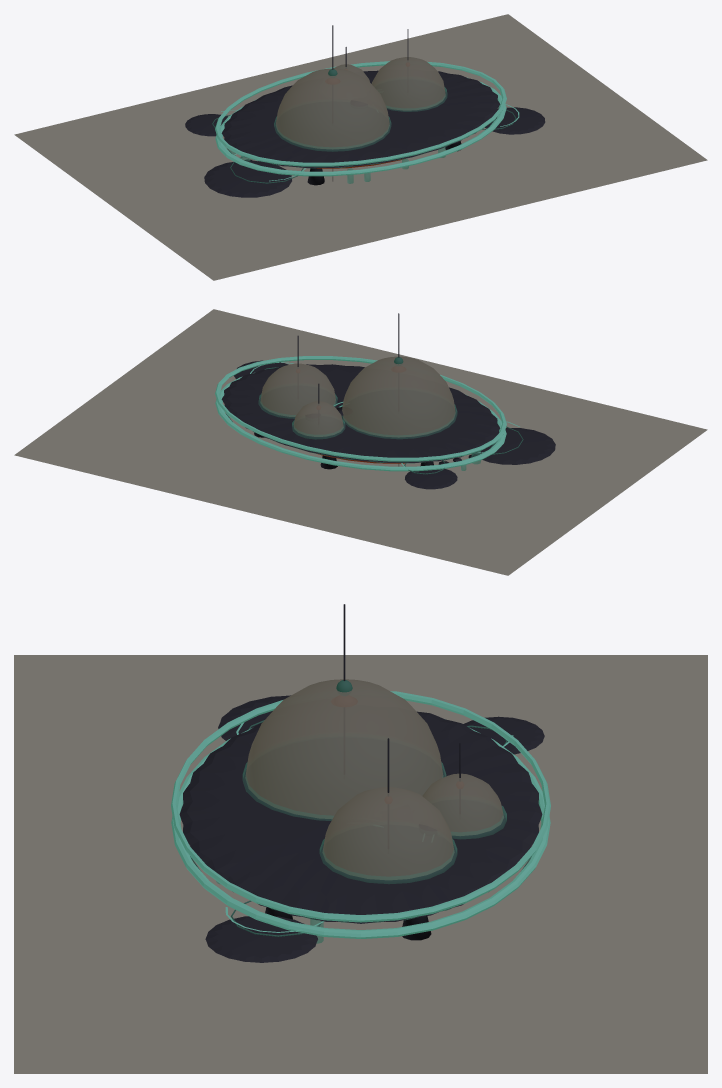
File: yoga-ext-draft-s10.glb
The picture shows the model from 3 angles, top to bottom: view 1: azimuth 30°, elevation 25°; view 2: azimuth 150°, elevation 25°; view 3: azimuth 270°, elevation 25°; orthographic projection. The views are drawn at different scales.
Visible parts, largest first — view 1: reflecting_lake, main_platform, dome_large, dome_medium, platform_rim_top, garden_platform_01, platform_rim, garden_platform_02, garden_platform_03, dome_collar_large; view 2: reflecting_lake, main_platform, dome_large, dome_medium, platform_rim_top, platform_rim, garden_platform_01, dome_small, garden_platform_03, dome_collar_large; view 3: reflecting_lake, main_platform, dome_large, dome_medium, platform_rim_top, platform_rim, garden_platform_02, dome_small, garden_platform_03, dome_collar_medium, garden_platform_01, dome_collar_large.
Boxes of the visible parts, <box> form: reflecting_lake: <box>14,14,707,280</box>; main_platform: <box>221,70,500,167</box>; dome_large: <box>276,68,389,149</box>; dome_medium: <box>371,57,445,110</box>; platform_rim_top: <box>215,61,506,166</box>; garden_platform_01: <box>204,160,291,197</box>; platform_rim: <box>215,77,506,176</box>; garden_platform_02: <box>485,107,545,134</box>; garden_platform_03: <box>185,114,227,136</box>; dome_collar_large: <box>274,116,391,151</box>; reflecting_lake: <box>14,309,707,575</box>; main_platform: <box>221,364,500,462</box>; dome_large: <box>342,356,455,437</box>; dome_medium: <box>260,363,335,416</box>; platform_rim_top: <box>215,356,506,461</box>; platform_rim: <box>215,372,506,471</box>; garden_platform_01: <box>471,427,555,464</box>; dome_small: <box>293,401,343,436</box>; garden_platform_03: <box>405,469,457,489</box>; dome_collar_large: <box>341,404,457,438</box>; reflecting_lake: <box>14,655,707,1073</box>; main_platform: <box>179,711,542,923</box>; dome_large: <box>245,679,443,819</box>; dome_medium: <box>322,787,454,880</box>; platform_rim_top: <box>171,691,550,922</box>; platform_rim: <box>171,728,550,938</box>; garden_platform_02: <box>205,916,317,962</box>; dome_small: <box>422,773,503,835</box>; garden_platform_03: <box>463,716,544,754</box>; dome_collar_medium: <box>319,839,457,883</box>; garden_platform_01: <box>218,695,290,740</box>; dome_collar_large: <box>242,762,446,820</box>.
Size of the model in its own units: 18 by 5.43 by 12.6.
